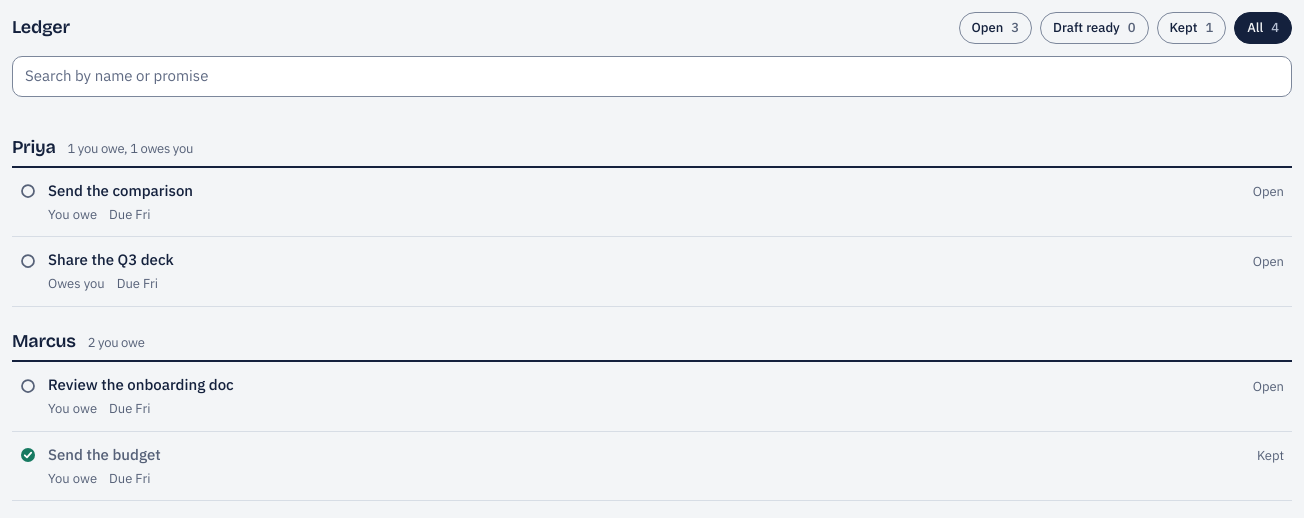
Ledger search › matches the promise text too, and needs every word to match
Step 1. Type "budget" into the search field → (652, 76), box top-left (12, 56), bottom-right (1292, 96)
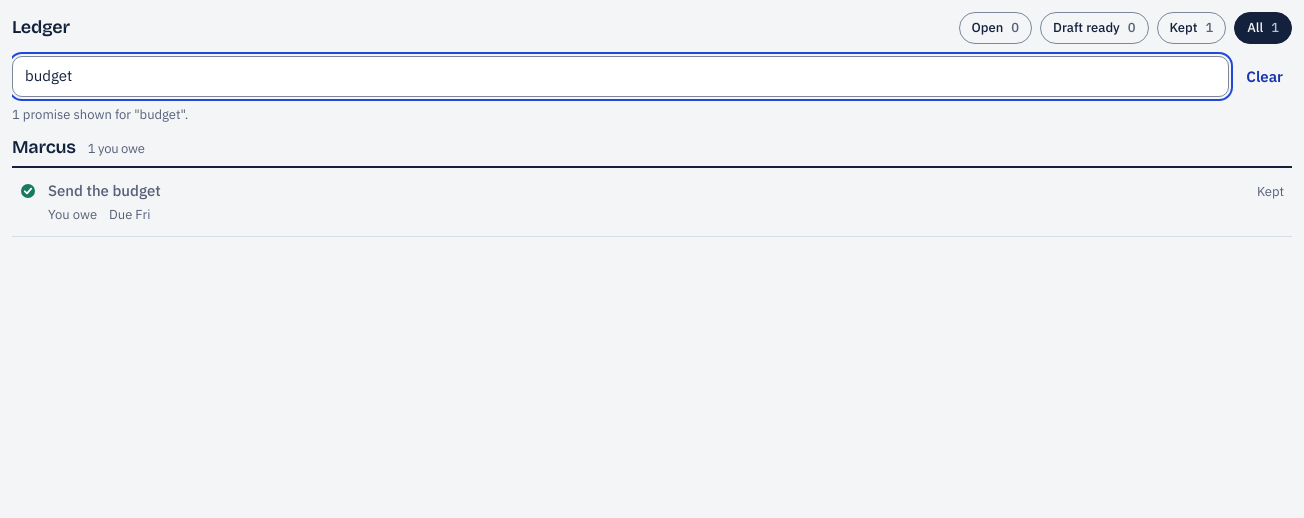
Check: the number of buttons "Send the budget You owe Due Fri Kept" is 1, box top-left (12, 168), bottom-right (1292, 238)
Step 2. Clear the search field → (621, 76), box top-left (12, 56), bottom-right (1229, 96)
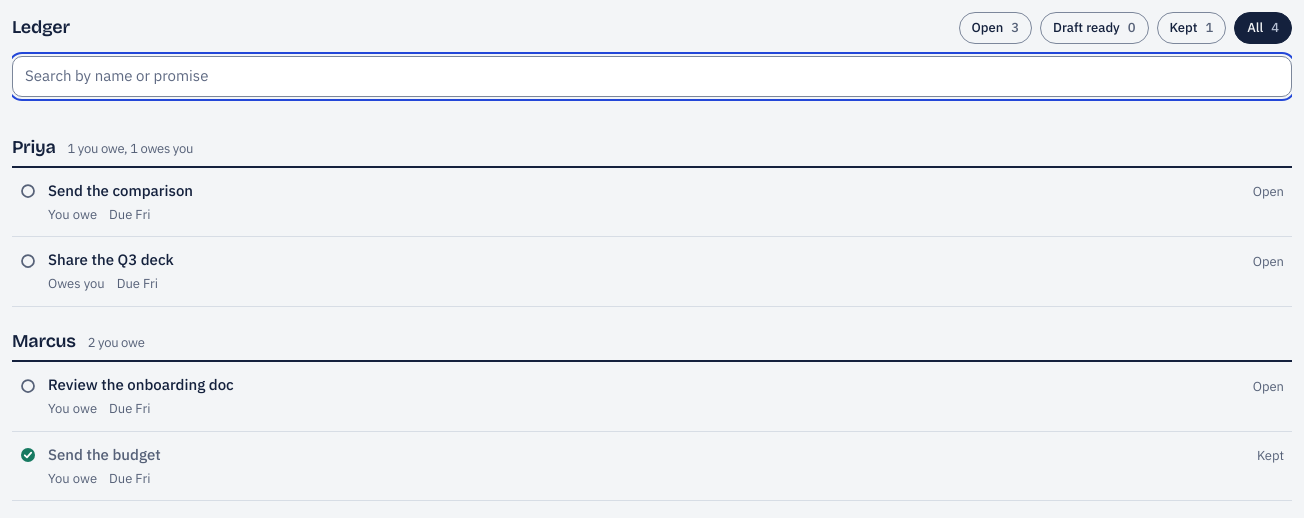
Step 3. Type "marcus send" into the search field → (652, 76), box top-left (12, 56), bottom-right (1292, 96)
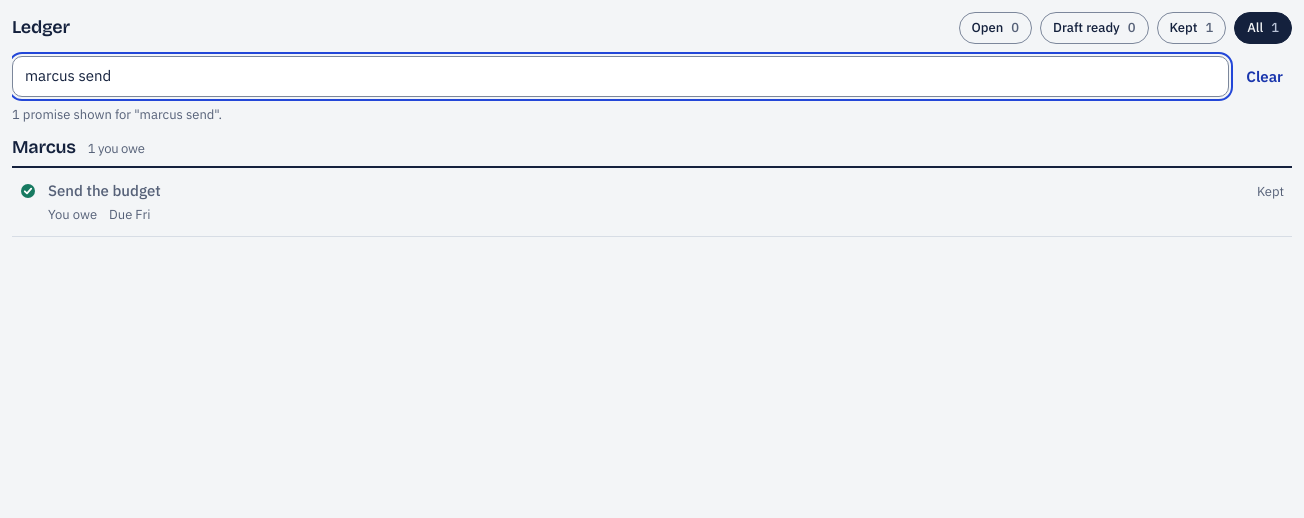
Check: the number of buttons "Send the budget You owe Due Fri Kept" is 1, box top-left (12, 168), bottom-right (1292, 238)
Step 4. Clear the search field → (621, 76), box top-left (12, 56), bottom-right (1229, 96)
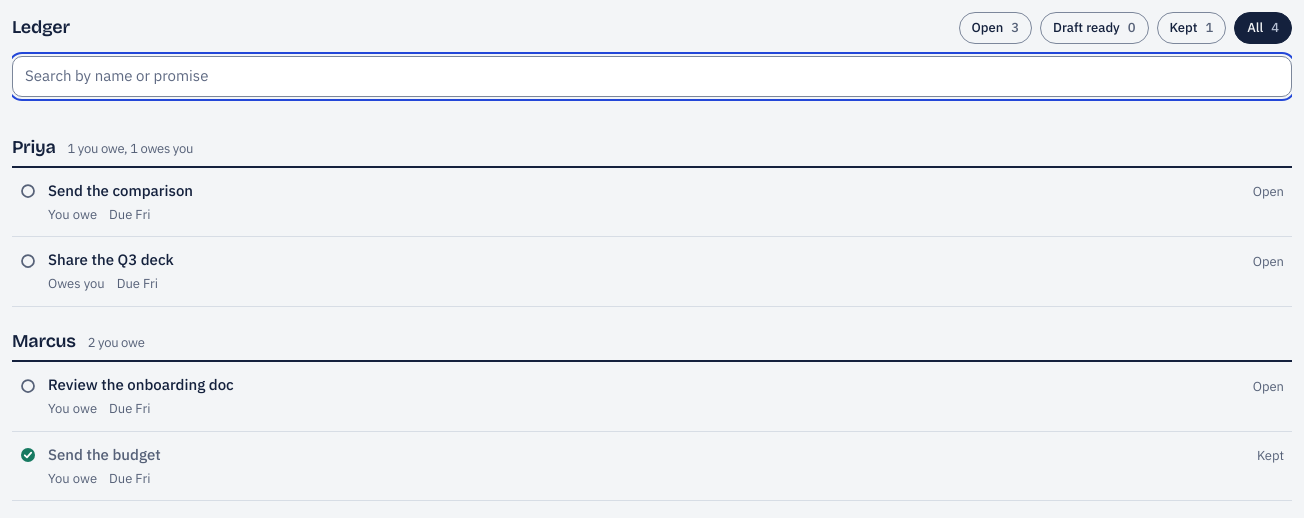
Step 5. Type "priya review" into the search field → (652, 76), box top-left (12, 56), bottom-right (1292, 96)
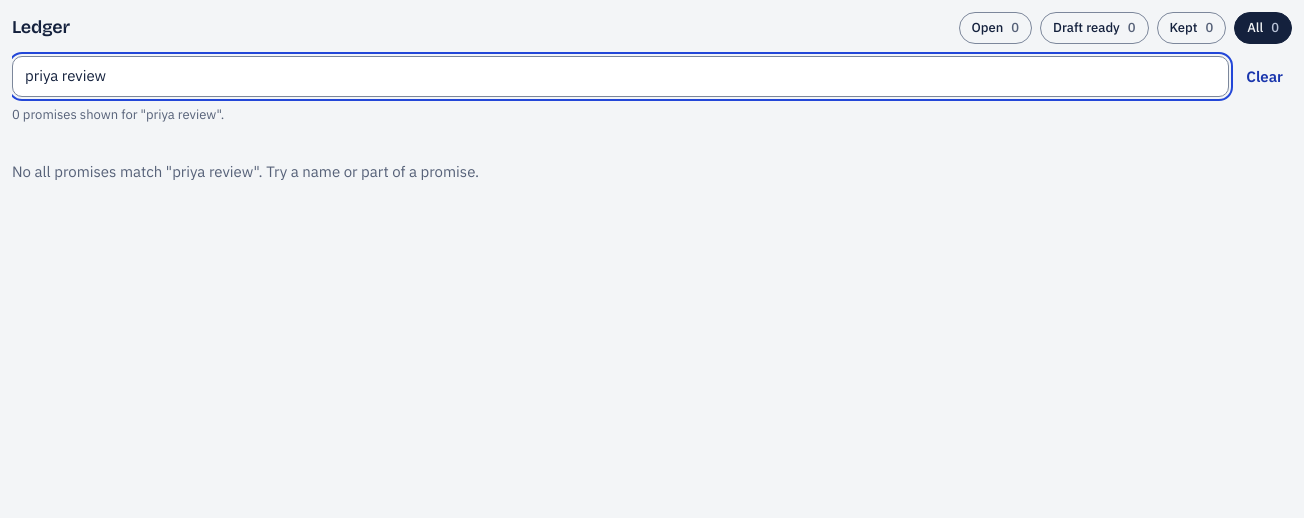
Check: no buttons "Send the comparison" are shown
